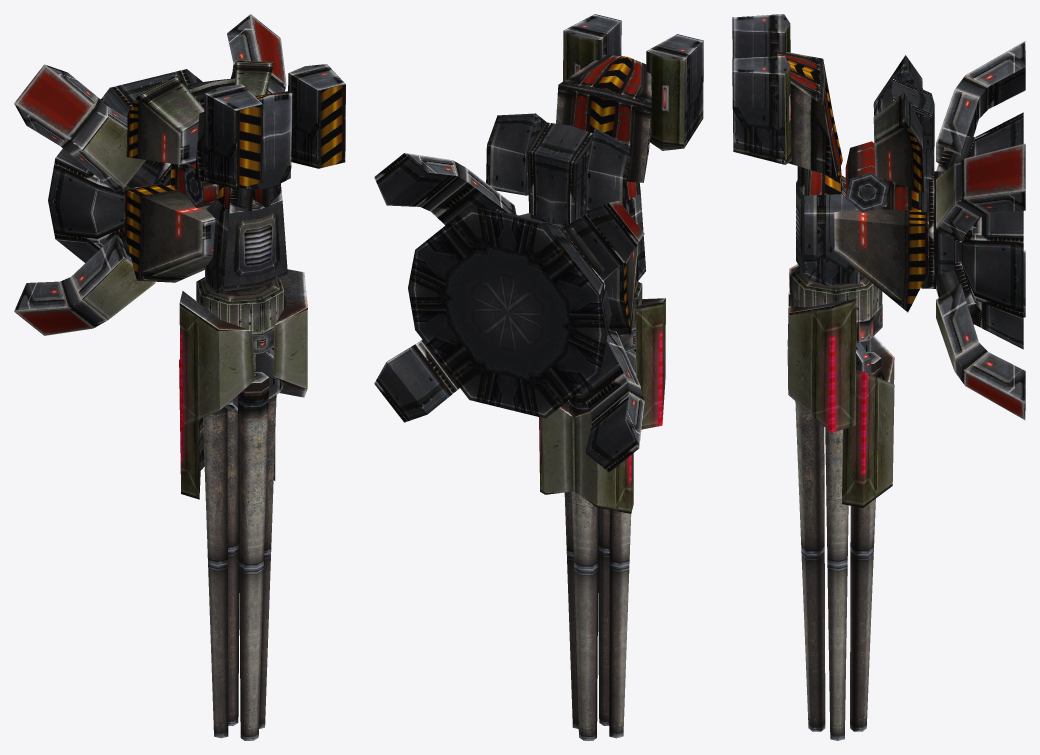
File: turret-01.obj
3 views of the same model, side by side, from view 1: azimuth 30°, elevation 25°; view 2: azimuth 150°, elevation 25°; view 3: azimuth 270°, elevation 25° (orthographic). The views are drawn at different scales.
Visible parts, largest first — view 1: head_02, gun, body, head; view 2: body, head_02, gun, head; view 3: head_02, body, gun, head.
Boxes of the visible parts, left/top/right/bottom form: head_02: left=124, top=64, right=345, bottom=499; gun: left=196, top=277, right=284, bottom=740; body: left=14, top=14, right=286, bottom=335; head: left=126, top=60, right=273, bottom=205; body: left=374, top=153, right=644, bottom=472; head_02: left=519, top=14, right=703, bottom=513; gun: left=564, top=281, right=642, bottom=740; head: left=486, top=113, right=632, bottom=225; head_02: left=732, top=14, right=928, bottom=507; body: left=918, top=41, right=1025, bottom=419; gun: left=790, top=266, right=882, bottom=740; head: left=873, top=55, right=934, bottom=210.
Size of the model in its own units: 4.68 by 11.25 by 4.37.
1 material, 1 textured.
